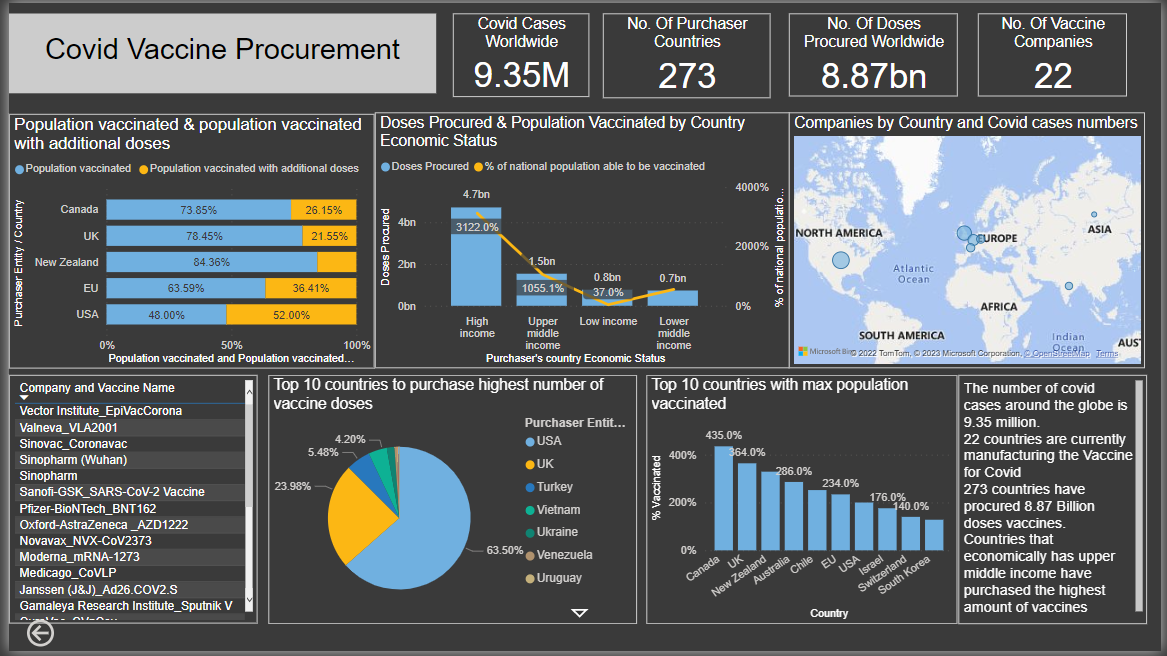

Layout of this report page (visuals, bound fields, positions):
{"tool":"powerbi","page":{"name":"Page 1","canvas":[1280,720],"ordinal":0},"visuals":[{"type":"tableEx","title":"Company & Vaccine Names","fields":{"Values":["vaccine_procurement.Company and Vaccine Name "]},"box":[0,413.8,276.2,276.2],"z":0},{"type":"actionButton","box":[15.1,679.8,100.4,39.8],"z":1000},{"type":"card","title":"No. Of Doses Procured Worldwide","fields":{"Values":["Sum(vaccine_procurement.Number of Doses Procured)"]},"box":[866.8,12.5,187.4,92.1],"z":2000},{"type":"card","title":"No. Of Purchaser Countries","fields":{"Values":["CountNonNull(vaccine_procurement.Purchaser Entity / Country)"]},"box":[660.7,10.9,185.9,93.7],"z":3000},{"type":"card","title":"Covid Cases Worldwide","fields":{"Values":["Sum(vaccine_procurement.COVID Burden (cases/million) )"]},"box":[493.2,11.3,151.2,92.6],"z":4000},{"type":"card","title":"No. Of Vaccine Companies","fields":{"Values":["Count(vaccine_procurement.Company and Vaccine Name )"]},"box":[1076.1,12.5,165.6,92.1],"z":5000},{"type":"textbox","box":[0,11.3,474.3,88.8],"z":6000},{"type":"textbox","box":[1054.2,413.9,209.3,276.4],"z":7000},{"type":"lineClusteredColumnComboChart","title":"Doses Procured & Population Vaccinated by Country Economic Status ","fields":{"Category":["vaccine_procurement.Purchaser's country Economic  Status "],"Y":["Sum(vaccine_procurement.Number of Doses Procured)"],"Y2":["Sum(vaccine_procurement.% of national population able to be vaccinated )"]},"box":[406.1,121.8,460.7,284.3],"z":8000},{"type":"clusteredColumnChart","title":"Top 10 countries with max population vaccinated","fields":{"Category":["vaccine_procurement.Purchaser Entity / Country"],"Y":["Sum(vaccine_procurement.% of national population able to be vaccinated )"]},"box":[709.1,413.9,345.2,276.4],"z":9000},{"type":"pieChart","title":"Top 10 countries to purchase highest number of vaccine doses","fields":{"Y":["Sum(vaccine_procurement.Number of Doses Procured)"],"Category":["vaccine_procurement.Purchaser Entity / Country"]},"box":[288.9,413.9,409.2,276.4],"z":10000},{"type":"map","title":"Companies by Country and Covid cases numbers","fields":{"Category":["vaccine_procurement.Company's Country"],"Size":["Sum(vaccine_procurement.COVID Burden (cases/million) )"]},"box":[866.8,121.8,395.1,284.3],"z":11000},{"type":"hundredPercentStackedBarChart","title":"Population vaccinated & population vaccinated with additional doses ","fields":{"Y":["Sum(vaccine_procurement.% of national population able to be vaccinated )","Sum(vaccine_procurement.% of national population able to be vaccinated with additional doses)"],"Category":["vaccine_procurement.Purchaser Entity / Country"]},"box":[0,123.4,406.1,282.7],"z":12000}]}

Visuals, with their boxes in screenshot pixels (x1, y1, x2, y2), scaled from the page's 1280x720 canvas onto the 1167x656 screenshot:
"Company & Vaccine Names" tableEx: detection(0, 377, 252, 629)
actionButton: detection(14, 619, 105, 655)
"No. Of Doses Procured Worldwide" card: detection(790, 11, 961, 95)
"No. Of Purchaser Countries" card: detection(602, 10, 772, 95)
"Covid Cases Worldwide" card: detection(450, 10, 588, 95)
"No. Of Vaccine Companies" card: detection(981, 11, 1132, 95)
textbox: detection(0, 10, 432, 91)
textbox: detection(961, 377, 1152, 629)
"Doses Procured & Population Vaccinated by Country Economic Status " lineClusteredColumnComboChart: detection(370, 111, 790, 370)
"Top 10 countries with max population vaccinated" clusteredColumnChart: detection(646, 377, 961, 629)
"Top 10 countries to purchase highest number of vaccine doses" pieChart: detection(263, 377, 636, 629)
"Companies by Country and Covid cases numbers" map: detection(790, 111, 1150, 370)
"Population vaccinated & population vaccinated with additional doses " hundredPercentStackedBarChart: detection(0, 112, 370, 370)
